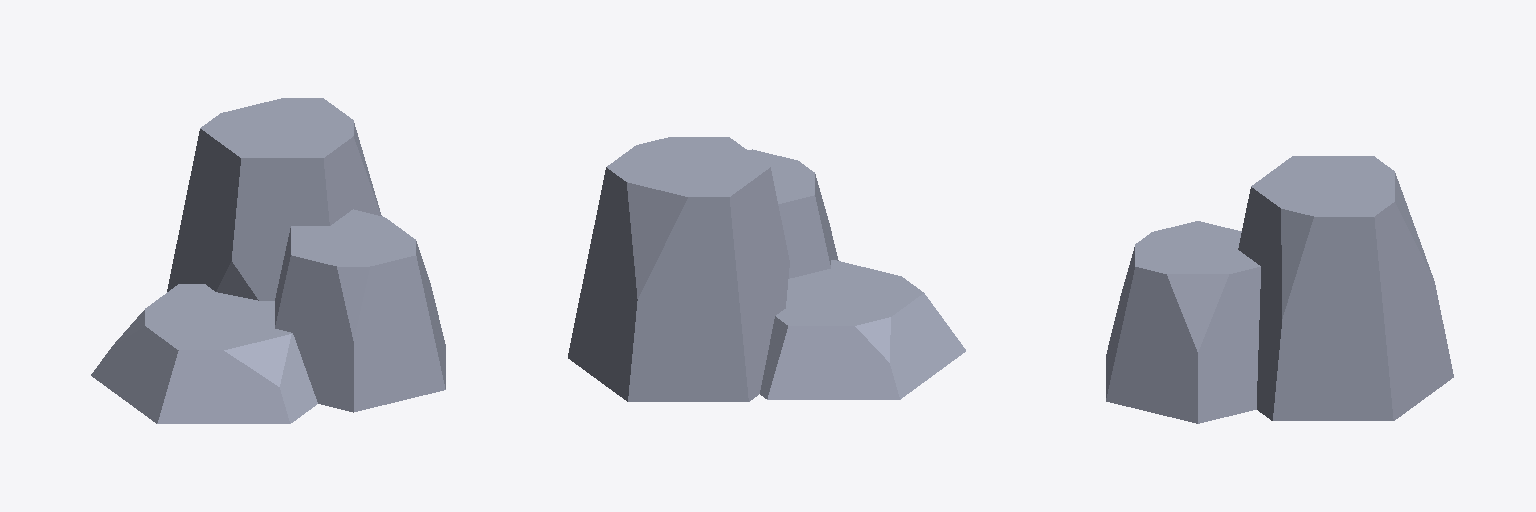
File: rocks.obj
3 views of the same model, side by side, from view 1: azimuth 30°, elevation 25°; view 2: azimuth 150°, elevation 25°; view 3: azimuth 270°, elevation 25° (orthographic).
Visible parts, largest first — view 1: rocks; view 2: rocks; view 3: rocks.
Part boxes in pixels (bbox=[...]): rocks: bbox=[91, 98, 445, 423]; rocks: bbox=[568, 137, 965, 401]; rocks: bbox=[1106, 156, 1453, 423].
Bounding box in the file's own units: 0.6531 × 0.4 × 0.6623.